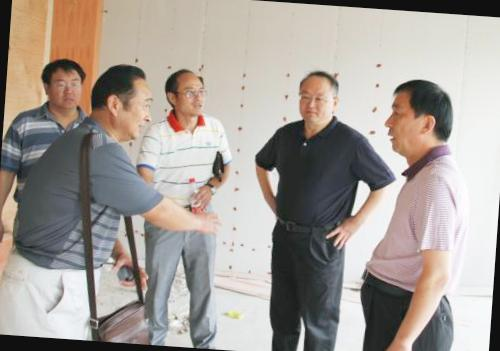no_helmet: (378, 73, 460, 167), (88, 59, 156, 140), (292, 66, 344, 131), (37, 54, 87, 117), (160, 66, 208, 124)
